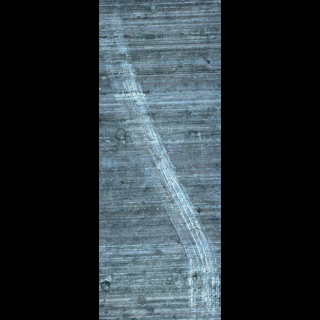d: (185, 225, 221, 319), (105, 15, 140, 98), (128, 86, 161, 169), (159, 168, 192, 235)
